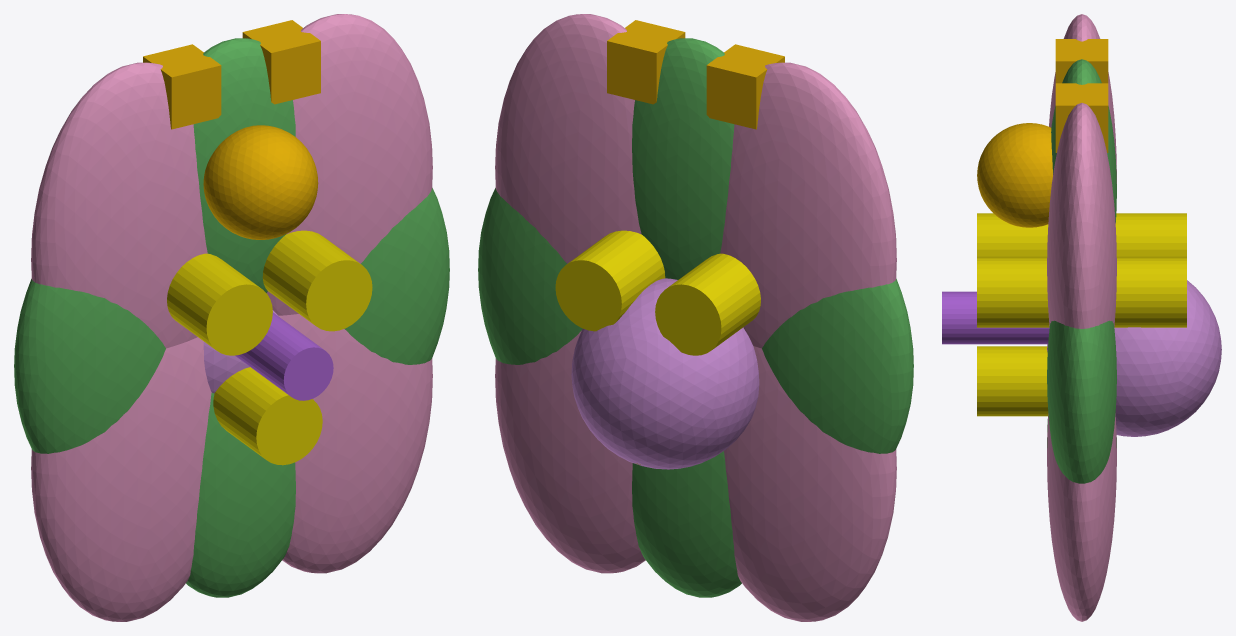
The model's file is flower_structure.glb.
3 views of the same model, side by side, from view 1: azimuth 30°, elevation 25°; view 2: azimuth 150°, elevation 25°; view 3: azimuth 270°, elevation 25° (orthographic). The views are drawn at different scales.
Visible parts, largest first — view 1: world; view 2: world; view 3: world.
Boxes of the visible parts, x1,y1,x2,y2 form: world: (14,14,449,621); world: (478,14,913,621); world: (942,14,1221,621).
Bounding box in the file's own units: 2.6 × 3.2 × 1.6.
